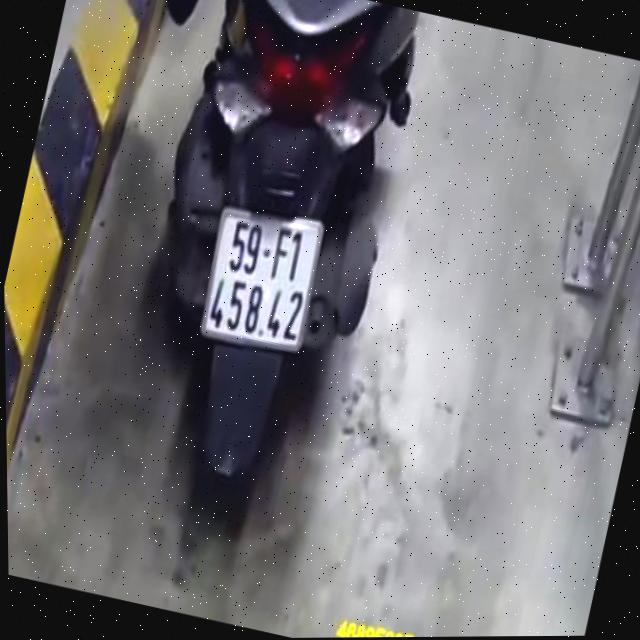motorcycle: (92, 0, 444, 537)
plate: (187, 197, 334, 359)
